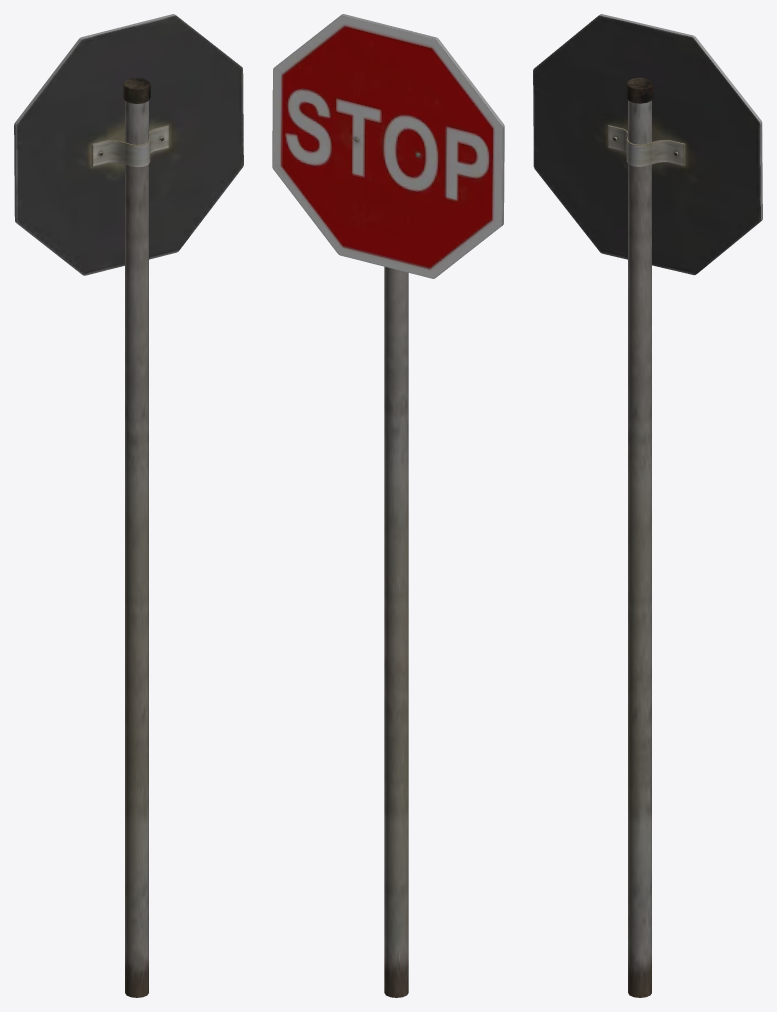
File: SM_Sign_Stop_merged_442593.glb
3 renders of one model, left to right at view 1: azimuth 30°, elevation 25°; view 2: azimuth 150°, elevation 25°; view 3: azimuth 330°, elevation 25°, orthographic.
Size of the model in its own units: 0.6554 by 2.64 by 0.0828.
2 materials, 2 textured.
